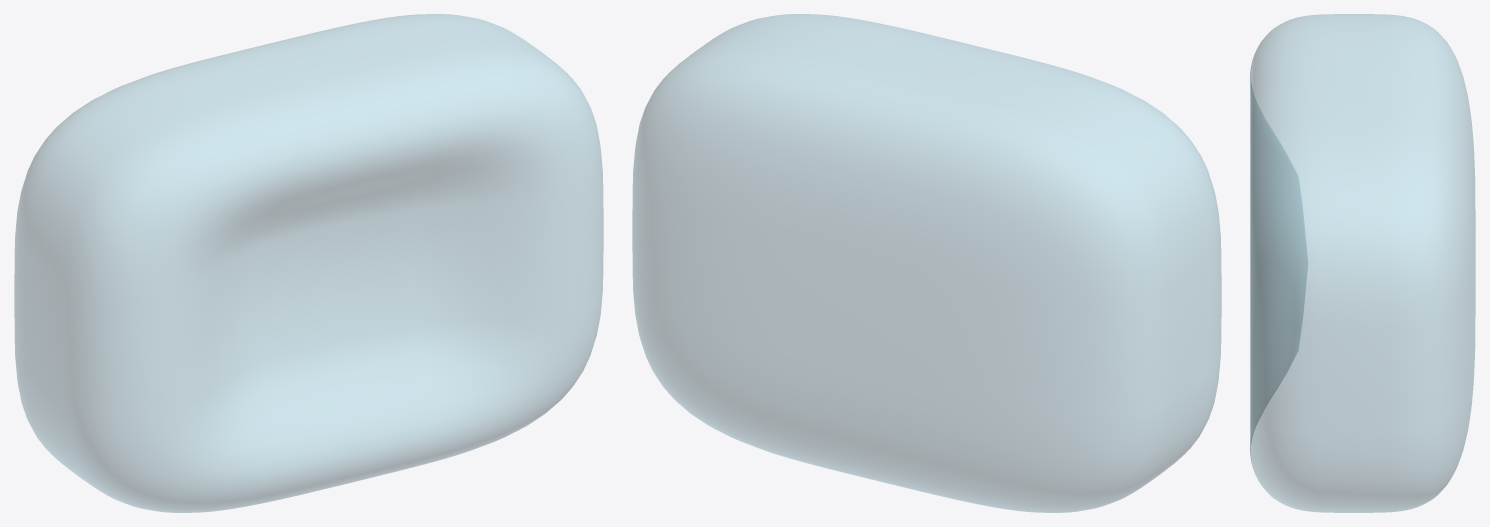
3 renders of one model, left to right at view 1: azimuth 30°, elevation 25°; view 2: azimuth 150°, elevation 25°; view 3: azimuth 270°, elevation 25°, orthographic. The views are drawn at different scales.
Visible parts, largest first — view 1: gel-body; view 2: gel-body; view 3: gel-body.
Boxes of the visible parts, x1,y1,x2,y2 form: gel-body: (14, 14, 603, 512); gel-body: (632, 14, 1221, 512); gel-body: (1250, 14, 1475, 512).
Bounding box in the file's own units: 1.96 × 1.4 × 0.7948.
